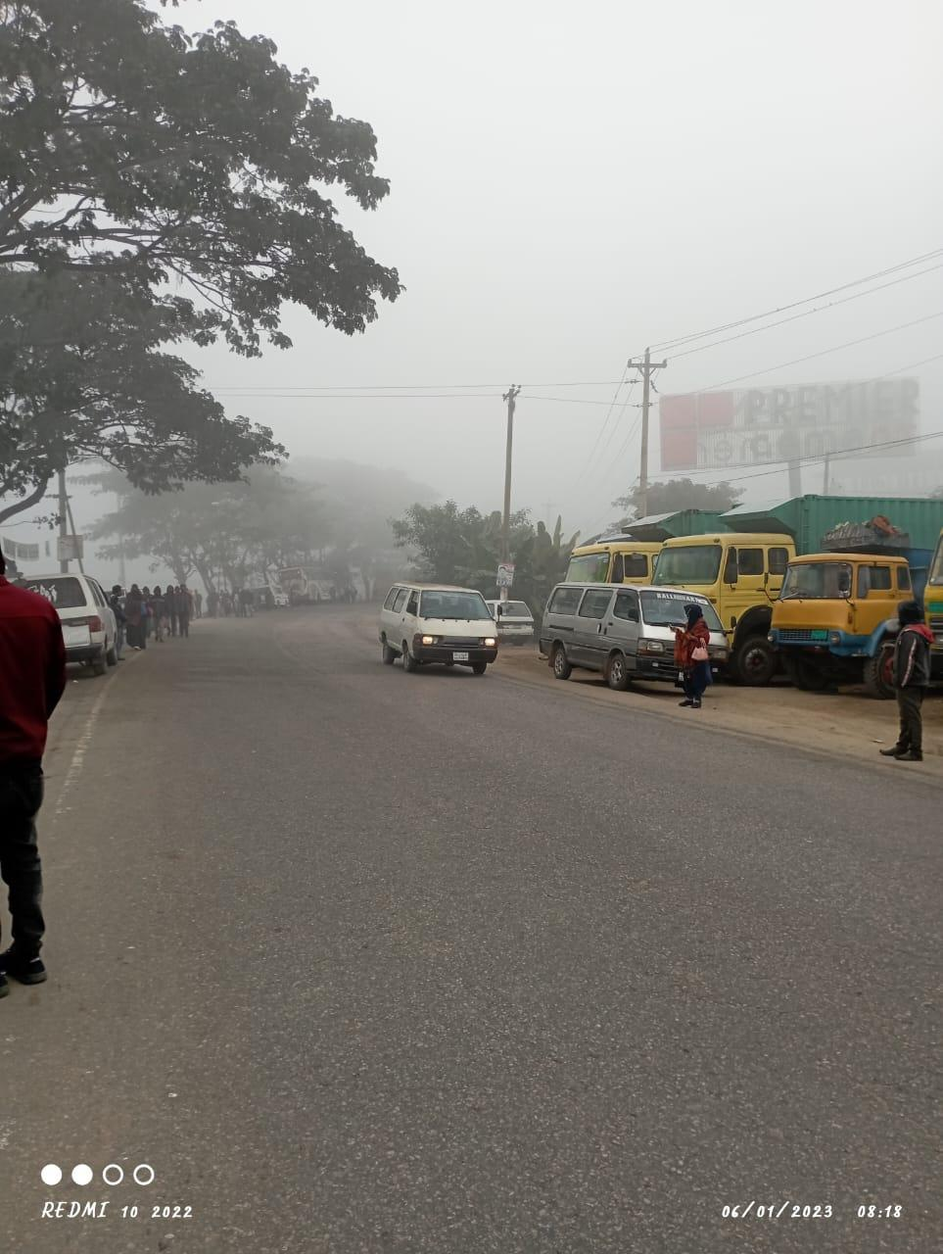Car: (531, 575, 741, 701), (1, 546, 137, 683), (373, 559, 505, 675)
Truck: (643, 491, 842, 678), (760, 517, 918, 698), (557, 499, 703, 622)
